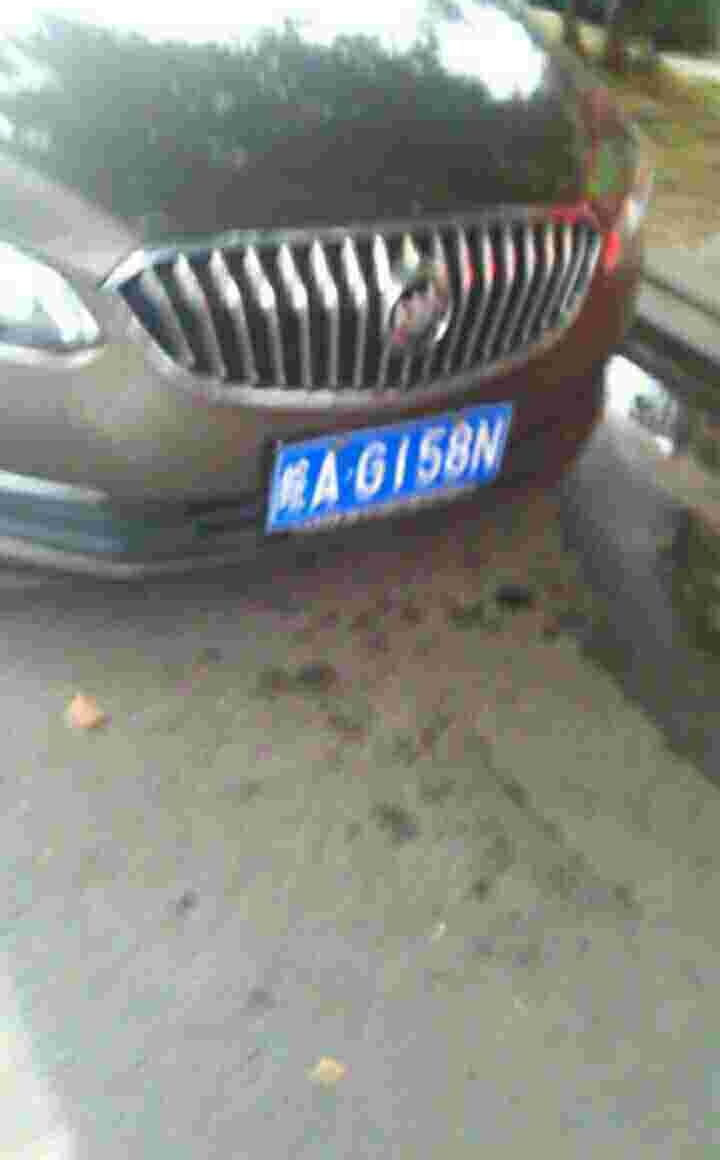license_plate: (273, 407, 504, 531)
